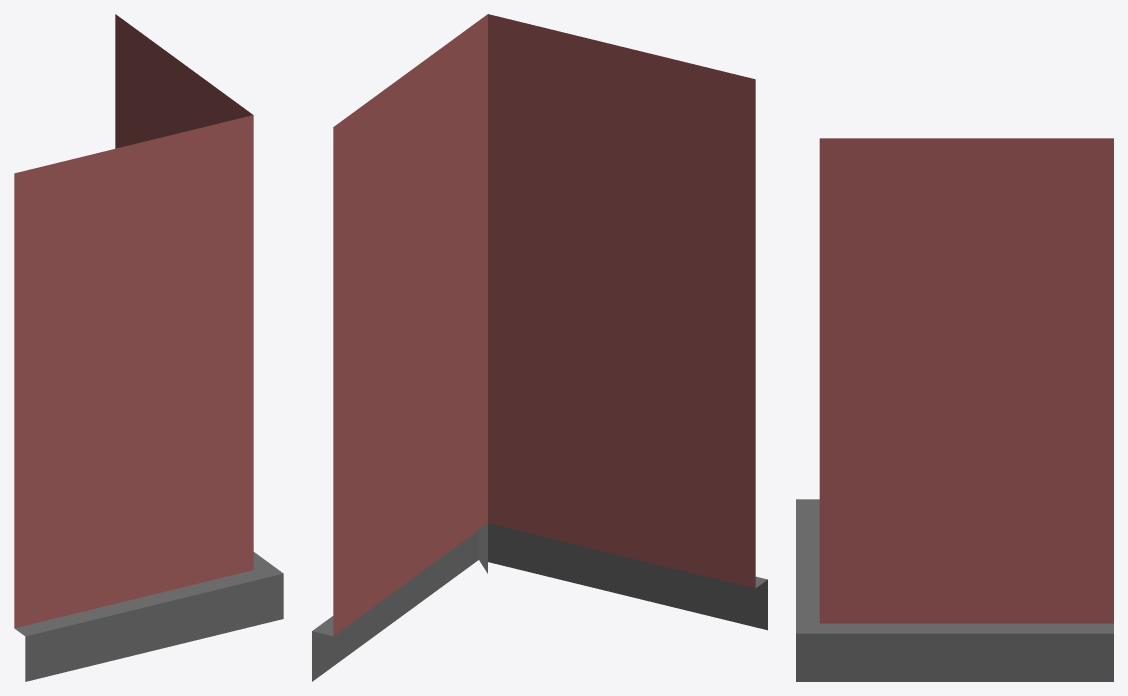
Rendered from Wall_Corner_TEST.fbx.
The picture shows the model from 3 angles, left to right: view 1: azimuth 30°, elevation 25°; view 2: azimuth 150°, elevation 25°; view 3: azimuth 270°, elevation 25°; orthographic projection. The views are drawn at different scales.
Visible parts, largest first — view 1: Wall_R_Corner_01; view 2: Wall_R_Corner_01; view 3: Wall_R_Corner_01.
Part boxes in pixels (bbox=[...]): Wall_R_Corner_01: bbox=[14, 14, 283, 681]; Wall_R_Corner_01: bbox=[312, 14, 767, 681]; Wall_R_Corner_01: bbox=[796, 138, 1113, 681].
Size of the model in its own units: 2.16 by 4 by 2.16.
